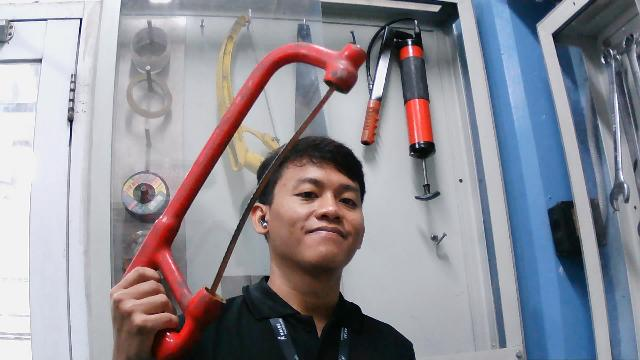gergaji_besi: (108, 39, 371, 360)
